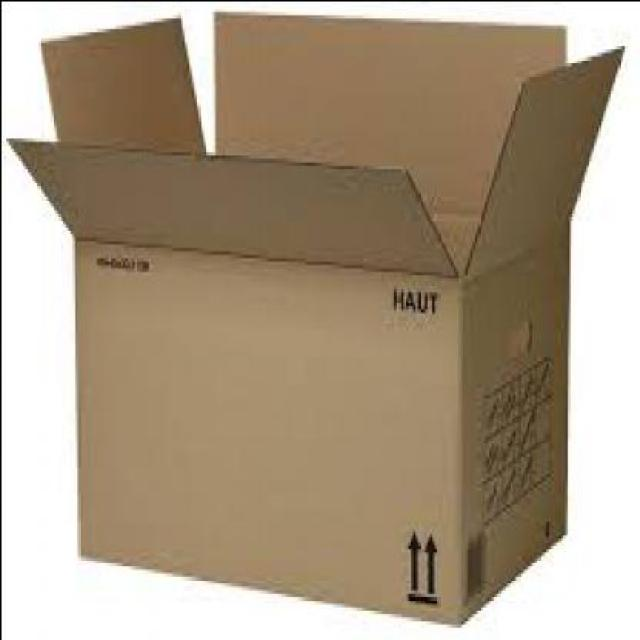CARDBOARD: (2, 7, 621, 619)
